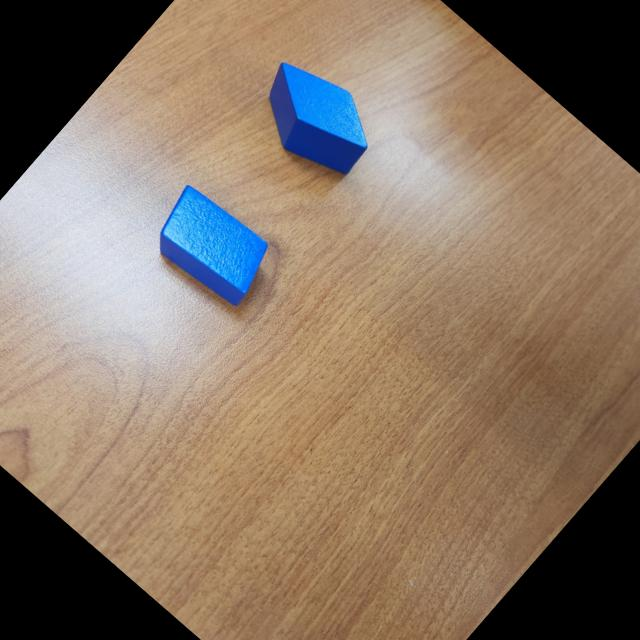blue: (237, 44, 390, 193), (140, 178, 282, 316)
